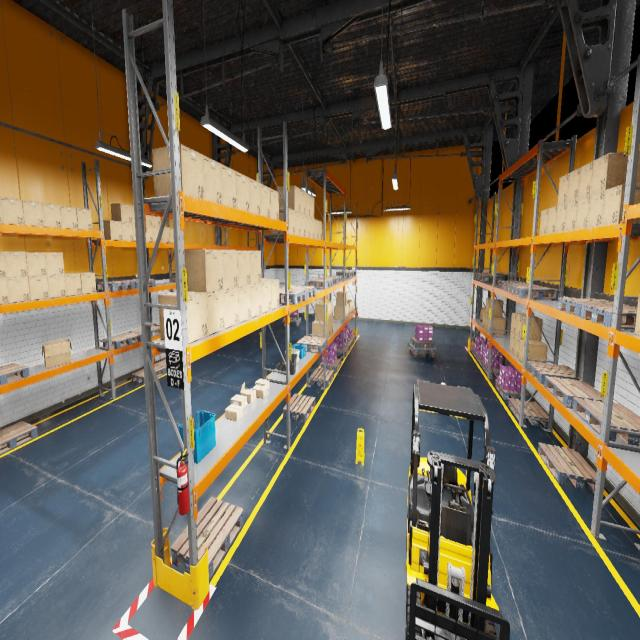box: (152, 144, 204, 199), (158, 292, 208, 344), (590, 150, 640, 194), (184, 249, 224, 293), (602, 183, 640, 226), (203, 155, 222, 204), (42, 339, 72, 368), (207, 290, 224, 336), (221, 164, 237, 208), (519, 339, 547, 363), (516, 315, 542, 340), (270, 208, 294, 235), (0, 197, 24, 224), (222, 250, 238, 289), (578, 160, 594, 198), (224, 288, 239, 328), (4, 252, 28, 277), (277, 186, 300, 212), (7, 277, 30, 303), (588, 191, 604, 228), (262, 278, 280, 310), (236, 171, 250, 212), (510, 313, 536, 335), (22, 200, 44, 226), (71, 272, 96, 294), (238, 285, 252, 323), (42, 202, 62, 228), (237, 250, 251, 286), (28, 276, 49, 300), (26, 252, 47, 276), (567, 167, 581, 202), (576, 195, 590, 230), (59, 205, 78, 229), (564, 199, 578, 231), (45, 252, 64, 275), (249, 178, 261, 214), (64, 272, 82, 296), (48, 274, 66, 298), (111, 202, 132, 222), (103, 220, 123, 240), (251, 282, 262, 318), (76, 207, 92, 230), (250, 251, 261, 284), (487, 315, 506, 334), (555, 203, 567, 233), (558, 173, 569, 205), (260, 183, 270, 218), (240, 382, 256, 403), (485, 299, 503, 316), (225, 404, 243, 421), (262, 280, 271, 314), (270, 188, 279, 220), (547, 206, 557, 234), (312, 320, 327, 338), (316, 302, 330, 321), (634, 292, 640, 336), (539, 209, 549, 235), (318, 300, 332, 318), (231, 394, 247, 409), (0, 278, 9, 304), (122, 222, 133, 241), (485, 314, 498, 330), (253, 384, 267, 398), (334, 305, 346, 320), (0, 252, 7, 277), (152, 225, 162, 242), (300, 189, 306, 215), (145, 224, 153, 242), (337, 292, 348, 305), (256, 378, 270, 388), (509, 332, 515, 355), (514, 336, 520, 359), (295, 211, 300, 236), (305, 192, 310, 216), (162, 227, 170, 242), (306, 215, 310, 238), (310, 195, 314, 218), (479, 307, 485, 322), (301, 214, 305, 236), (348, 299, 354, 313), (310, 217, 314, 238), (152, 216, 160, 226), (318, 220, 322, 239), (169, 228, 174, 243), (131, 205, 135, 223), (342, 304, 347, 318), (132, 223, 136, 240), (315, 218, 318, 238), (146, 215, 152, 225), (330, 317, 333, 334), (0, 198, 2, 223), (482, 312, 485, 328), (328, 320, 330, 338), (348, 303, 349, 316)
forklift: (406, 380, 498, 639)
pallets: (171, 496, 243, 580), (572, 397, 640, 446), (538, 443, 596, 492), (544, 376, 613, 410), (580, 304, 637, 329), (558, 298, 632, 316), (0, 420, 38, 454), (508, 398, 548, 428), (527, 361, 579, 384), (283, 393, 315, 422), (496, 380, 530, 401), (102, 332, 142, 349), (512, 286, 559, 300), (0, 363, 29, 385), (131, 365, 165, 383), (296, 336, 328, 353), (279, 286, 316, 299), (310, 367, 334, 387), (280, 288, 306, 304), (96, 281, 135, 291), (504, 283, 542, 293), (129, 326, 160, 338), (120, 279, 155, 289), (320, 357, 342, 372), (305, 279, 333, 289), (482, 361, 499, 377), (498, 280, 526, 289), (411, 337, 434, 347), (480, 274, 506, 282), (314, 277, 337, 285), (154, 359, 167, 373), (337, 345, 350, 356), (474, 272, 491, 280), (336, 272, 353, 278), (328, 276, 342, 283), (341, 270, 356, 276), (345, 339, 353, 350), (349, 334, 356, 344), (472, 347, 477, 359), (477, 354, 482, 366), (154, 323, 160, 331), (290, 314, 298, 320), (172, 276, 176, 282)
